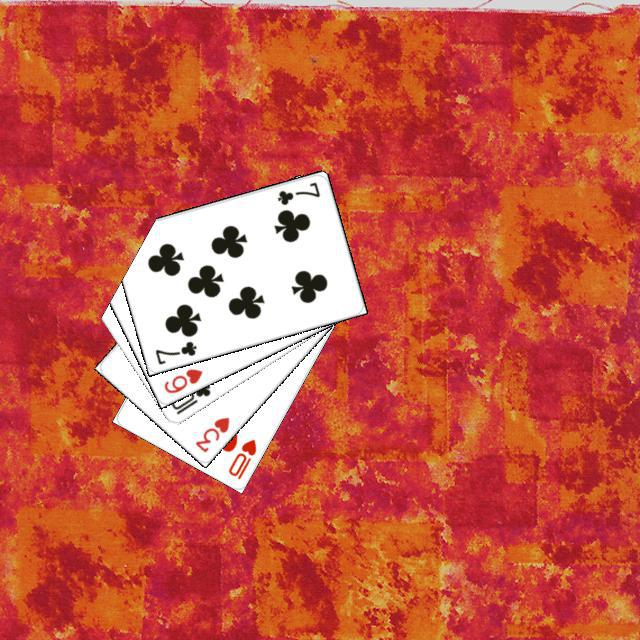10c: (166, 377, 212, 416)
10h: (223, 434, 258, 481)
3h: (190, 412, 231, 454)
6h: (159, 363, 204, 395)
7c: (272, 177, 322, 207), (150, 336, 198, 366)
